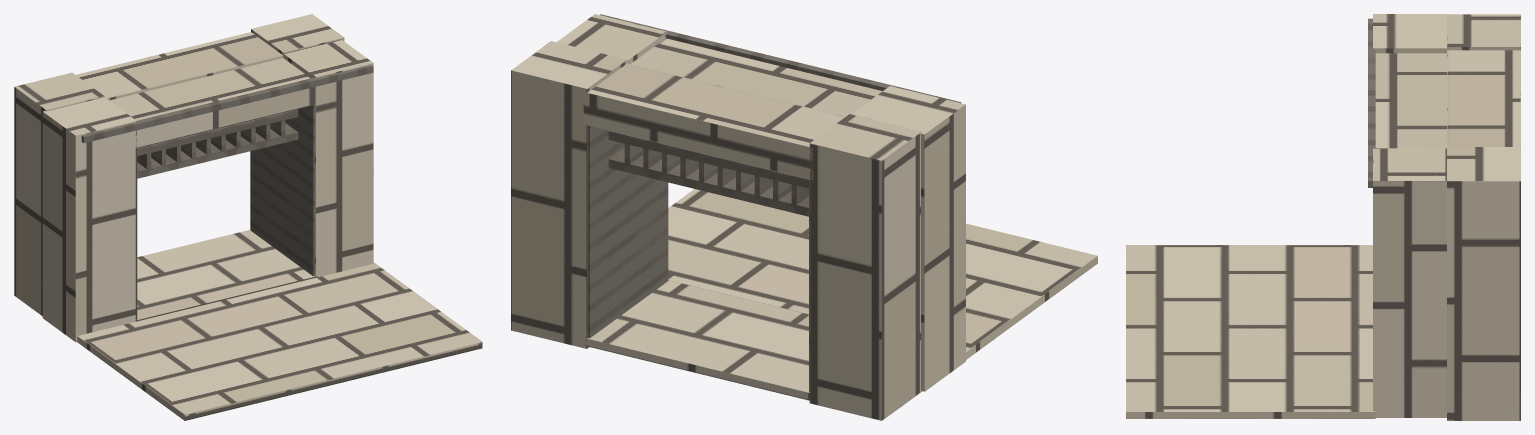
File: castle_gate.glb
3 renders of one model, left to right at view 1: azimuth 30°, elevation 25°; view 2: azimuth 150°, elevation 25°; view 3: azimuth 270°, elevation 25°, orthographic. The views are drawn at different scales.
Visible parts, largest first — view 1: castle_gate; view 2: castle_gate; view 3: castle_gate.
Part boxes in pixels (x1,y1,x2,y2): castle_gate: (14,14,482,420); castle_gate: (511,14,1097,420); castle_gate: (1126,14,1520,420).
Size of the model in its own units: 4.04 by 2.68 by 4.
1 material, 1 textured.
